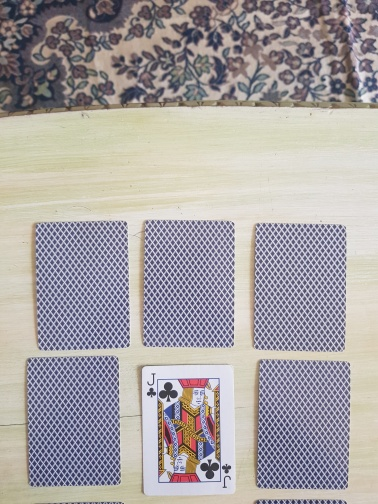jack: (140, 364, 237, 497)
